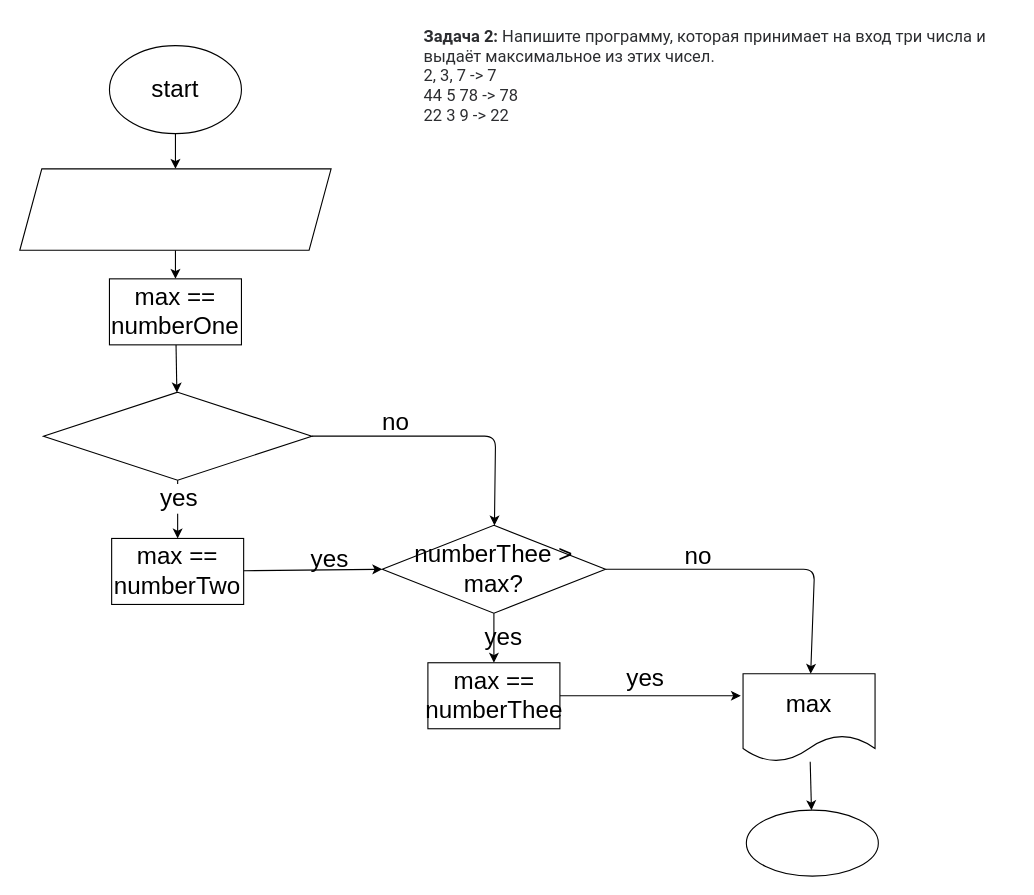
The diagram is 1034 pixels wide and 895 high, and some of its shapes have lost their labels. Each missing label, with the centre of its shape:
"end" belongs at point (811, 842).
"numberOne, numberTwo, numberThree" belongs at point (175, 209).
"numberTwo > max?" belongs at point (177, 435).
